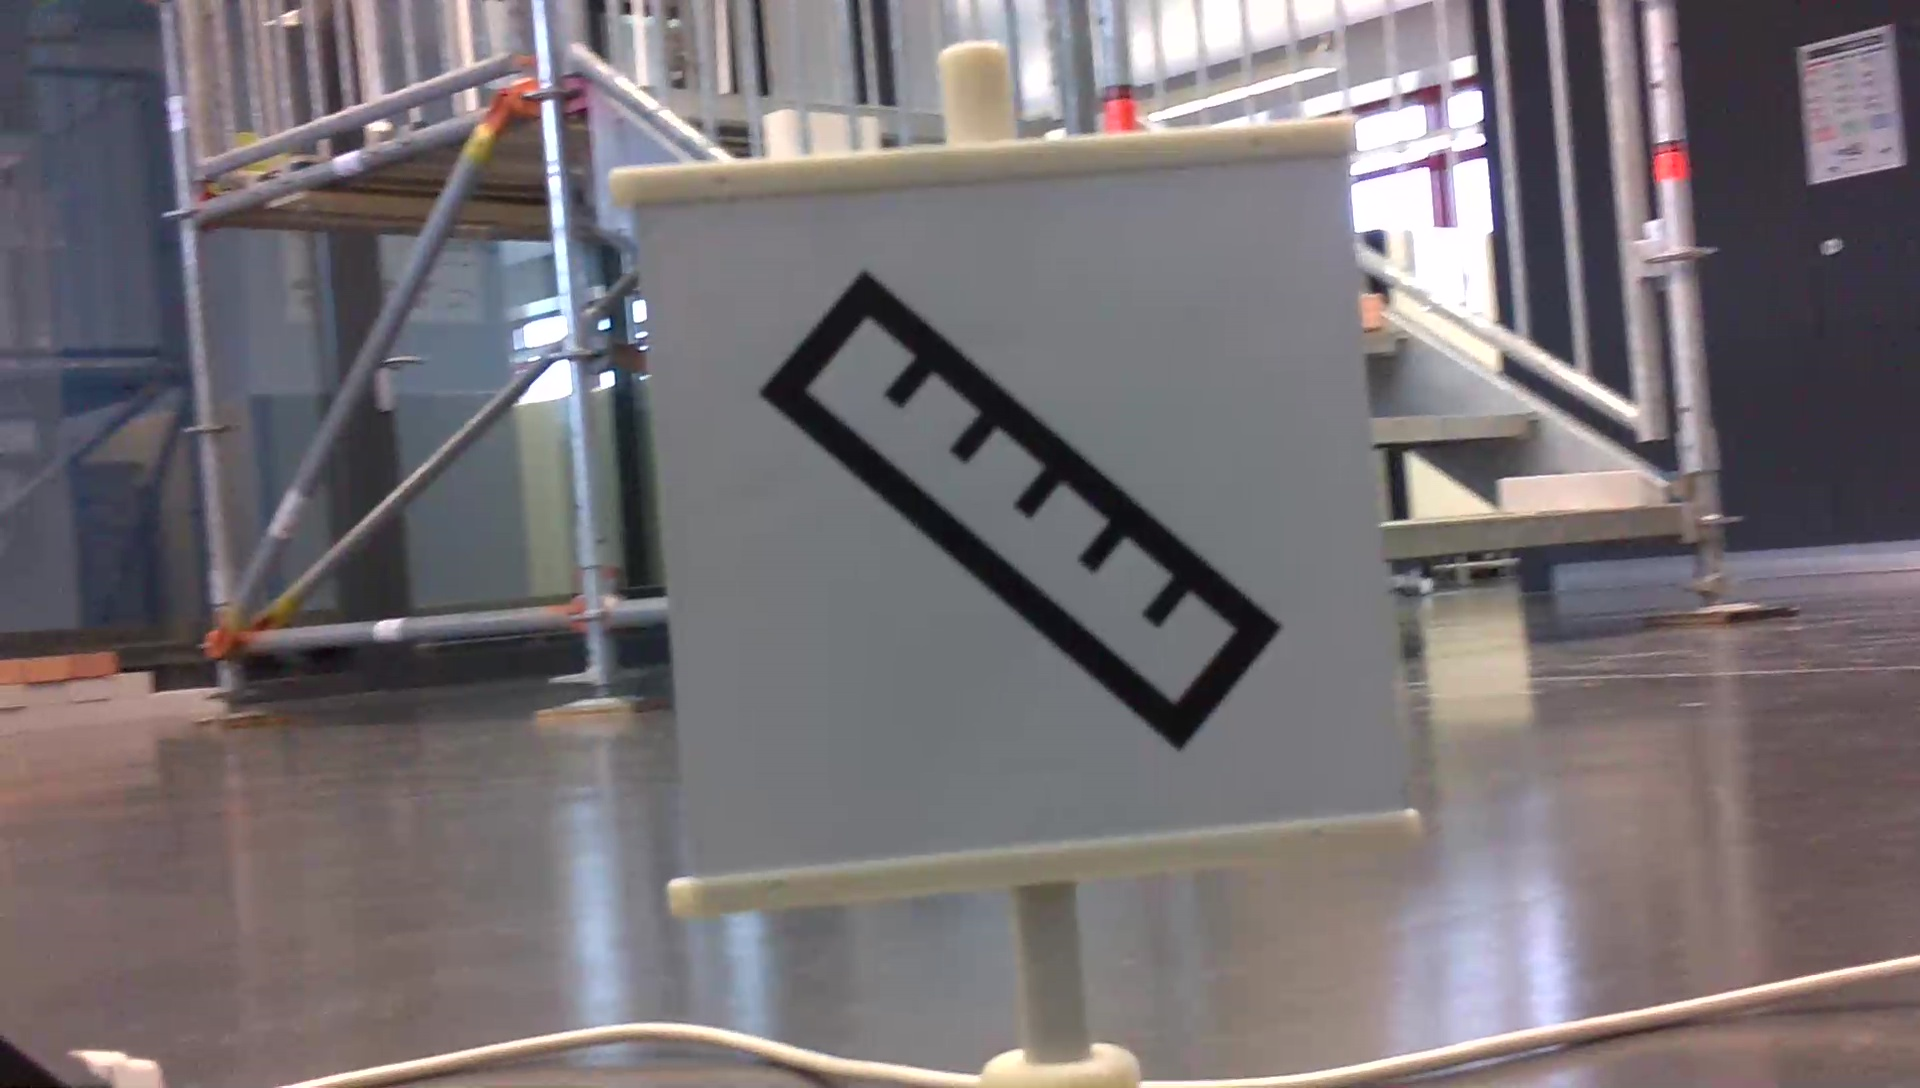brick: (1493, 469, 1636, 518)
ruler: (762, 257, 1290, 773)
